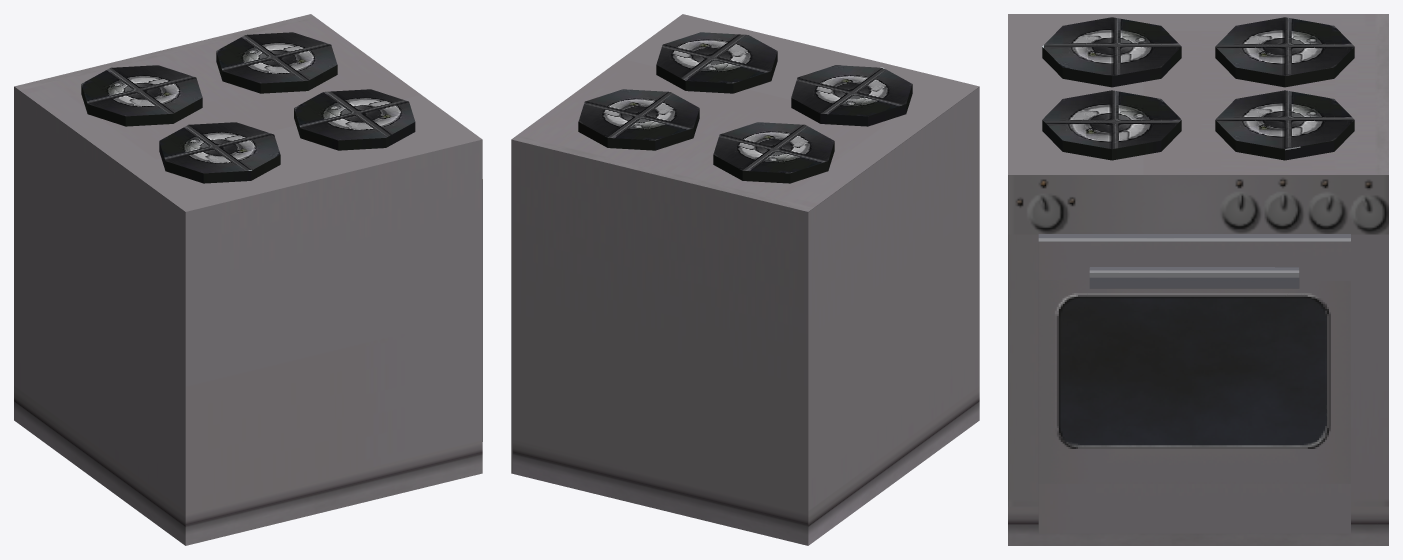
Rendered from Stove.fbx.
3 views of the same model, side by side, from view 1: azimuth 30°, elevation 25°; view 2: azimuth 150°, elevation 25°; view 3: azimuth 270°, elevation 25° (orthographic). The views are drawn at different scales.
Visible parts, largest first — view 1: StoveBase, Burner01, Burner03, Burner04, Burner02; view 2: StoveBase, Burner03, Burner01, Burner02, Burner04; view 3: StoveDoor, StoveBase, Burner01, Burner03, Burner02, Burner04.
Boxes of the visible parts, x1,y1,x2,y2 form: StoveBase: (14, 14, 482, 545); Burner01: (294, 89, 415, 150); Burner03: (216, 32, 337, 93); Burner04: (159, 122, 280, 183); Burner02: (81, 65, 202, 126); StoveBase: (511, 14, 979, 545); Burner03: (578, 89, 699, 150); Burner01: (656, 32, 777, 93); Burner02: (713, 122, 834, 183); Burner04: (791, 65, 912, 126); StoveDoor: (1038, 234, 1350, 533); StoveBase: (1008, 14, 1388, 545); Burner01: (1042, 90, 1181, 160); Burner03: (1215, 90, 1354, 160); Burner02: (1215, 17, 1354, 87); Burner04: (1042, 17, 1181, 87).
Bounding box in the file's own units: 167 × 171 × 154.
Materials: 3 (3 with a texture image).
